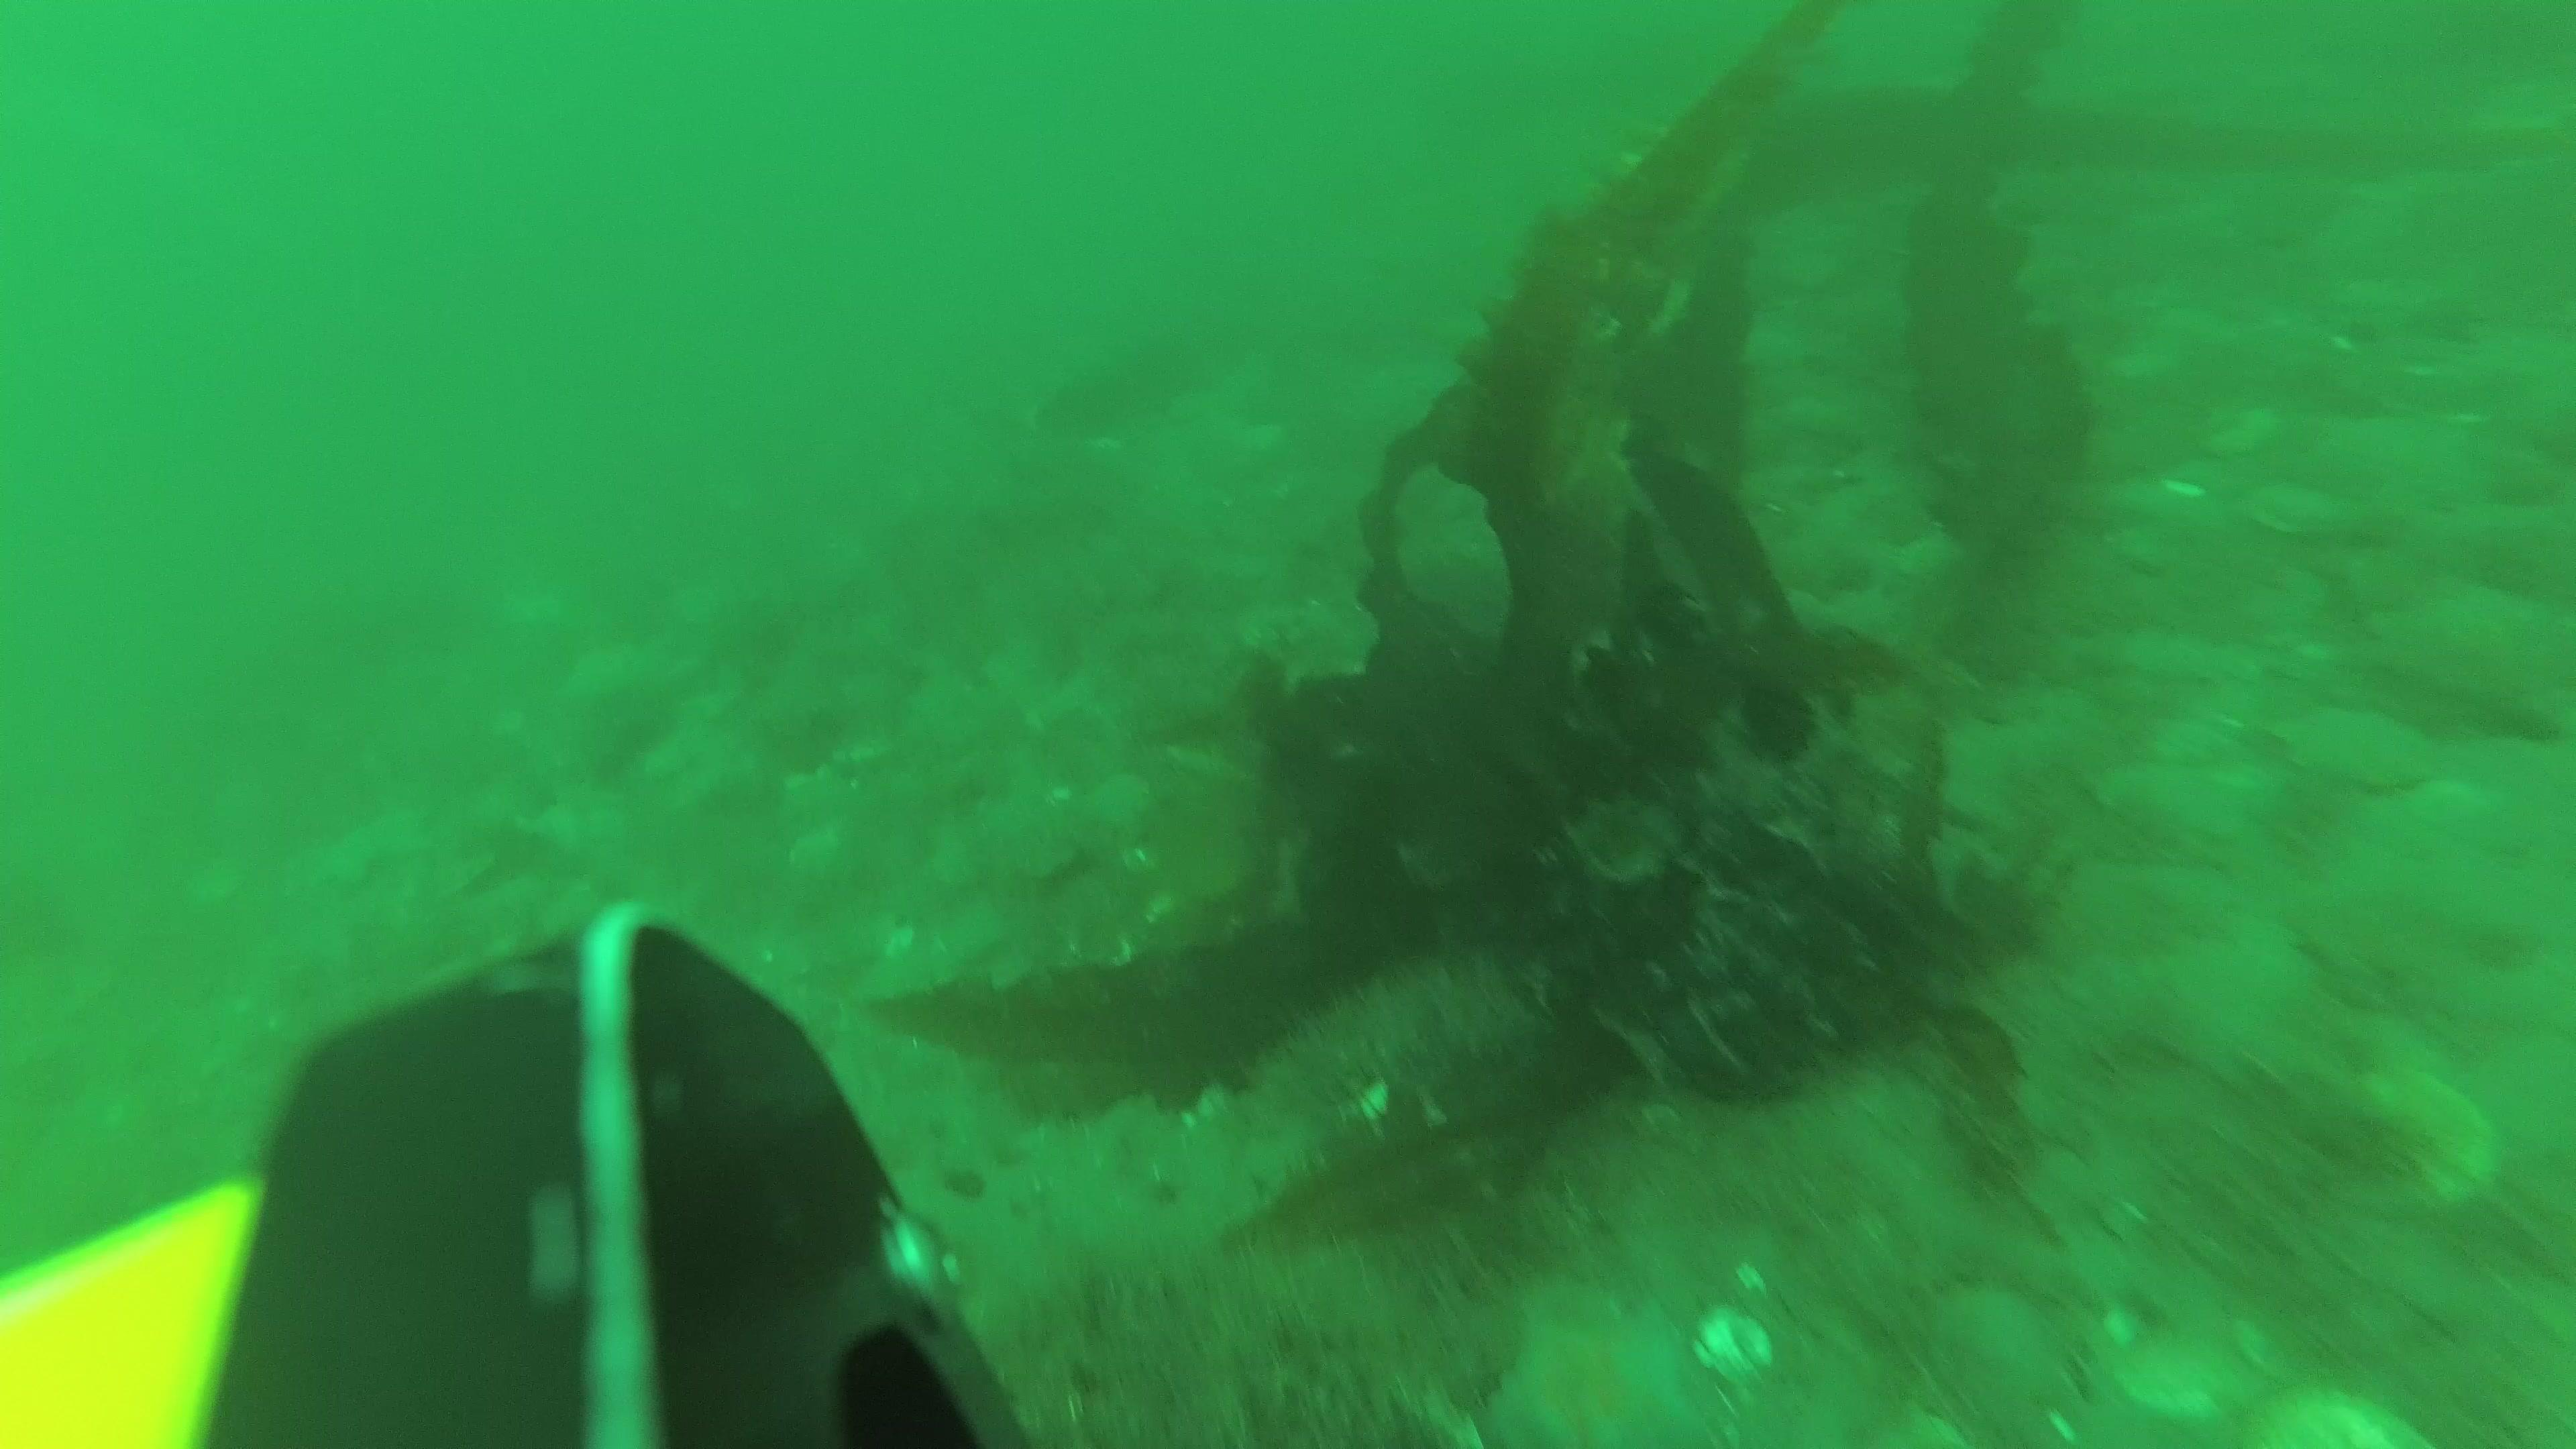scallop: (2344, 1060, 2507, 1223), (2284, 692, 2431, 805), (2254, 471, 2358, 547)
starfish: (1491, 1299, 1706, 1449)
